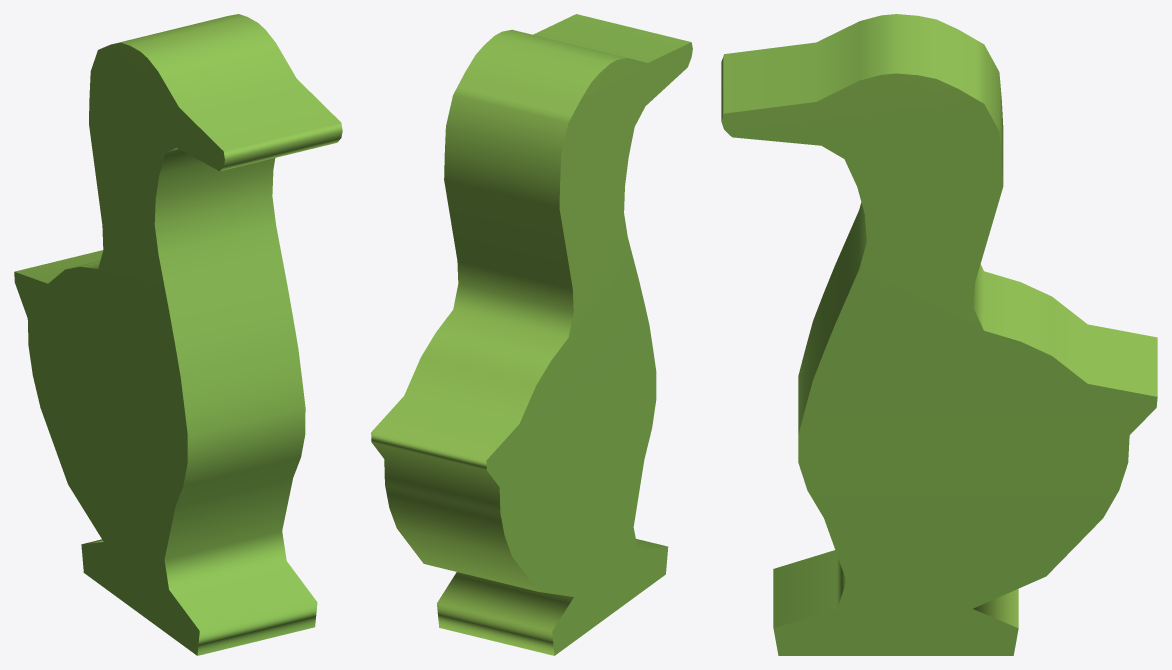
The model's file is Gans Groen.fbx.
3 renders of one model, left to right at view 1: azimuth 30°, elevation 25°; view 2: azimuth 150°, elevation 25°; view 3: azimuth 270°, elevation 25°, orthographic. The views are drawn at different scales.
Visible parts, largest first — view 1: pCube1; view 2: pCube1; view 3: pCube1.
Part boxes in pixels (left/top/right/bottom): pCube1: left=14, top=14, right=342, bottom=655; pCube1: left=371, top=14, right=692, bottom=655; pCube1: left=721, top=14, right=1157, bottom=655.
Size of the model in its own units: 0.3124 by 1.43 by 0.9687.
1 material, 1 textured.
